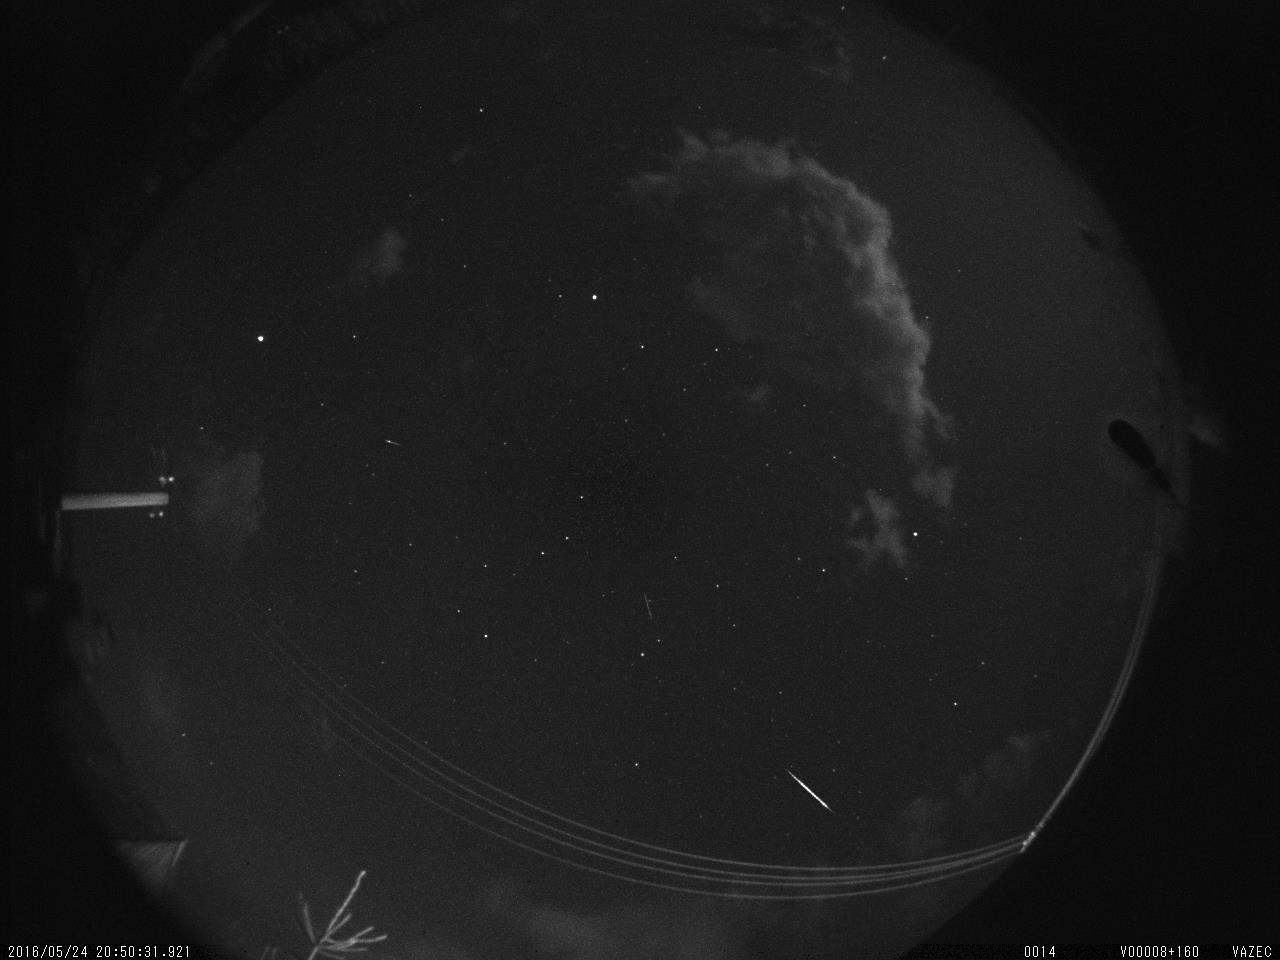meteor: (780, 760, 847, 820)
